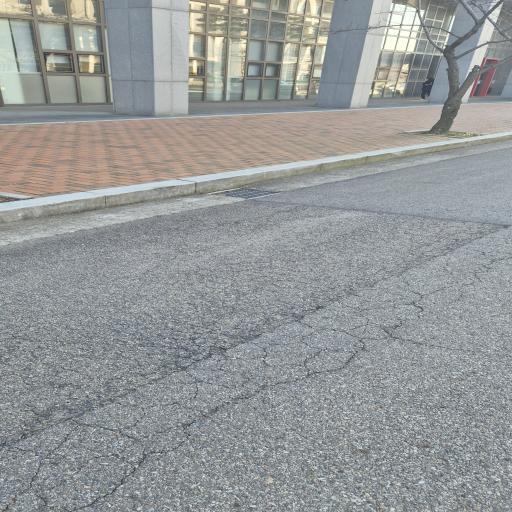drain: (214, 188, 279, 199)
